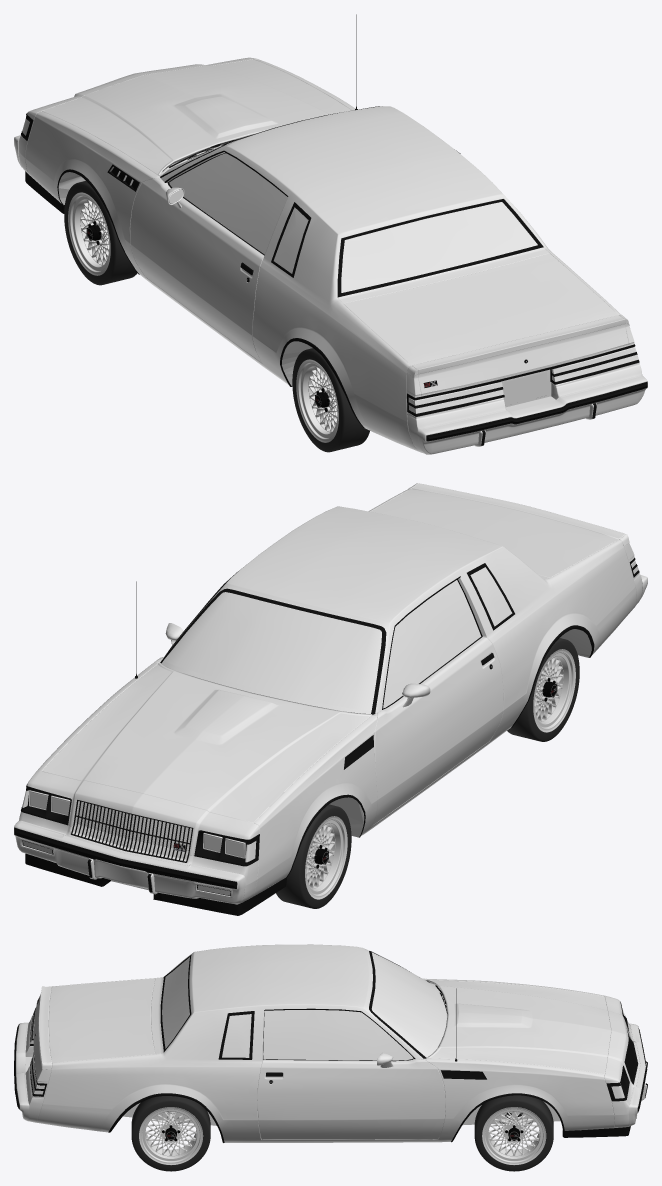
The model's file is MCLA_VP_BUK_GRANDNATIONAL_87.glb.
3 views of the same model, one above another, from view 1: azimuth 30°, elevation 25°; view 2: azimuth 150°, elevation 25°; view 3: azimuth 270°, elevation 25° (orthographic). The views are drawn at different scales.
Parts seen in each view (by area): view 1: vp_buk_grandnational_87/resources/vehicle/vp_buk_grandnation (×9), shared/resources/rims/whl_stk_buk_grandnational_87@axl_0/mod, shared/resources/rims/whl_stk_buk_grandnational_87@axl_2/mod, shared/resources/tires/models/tir_car@axl_2/model0, shared/resources/tires/models/tir_car@axl_0/model0; view 2: vp_buk_grandnational_87/resources/vehicle/vp_buk_grandnation (×8), shared/resources/rims/whl_stk_buk_grandnational_87@axl_2/mod, shared/resources/rims/whl_stk_buk_grandnational_87@axl_0/mod, shared/resources/tires/models/tir_car@axl_0/model0, shared/resources/tires/models/tir_car@axl_2/model0; view 3: vp_buk_grandnational_87/resources/vehicle/vp_buk_grandnation (×9), shared/resources/rims/whl_stk_buk_grandnational_87@axl_1/mod, shared/resources/rims/whl_stk_buk_grandnational_87@axl_3/mod, shared/resources/tires/models/tir_car@axl_1/model0, shared/resources/tires/models/tir_car@axl_3/model0.
Part boxes in pixels (x1,y1,x2,y2): vp_buk_grandnational_87/resources/vehicle/vp_buk_grandnation (×9): [14, 57, 647, 454]; shared/resources/rims/whl_stk_buk_grandnational_87@axl_0/mod: [68, 192, 110, 275]; shared/resources/rims/whl_stk_buk_grandnational_87@axl_2/mod: [296, 359, 338, 442]; shared/resources/tires/models/tir_car@axl_2/model0: [292, 348, 369, 452]; shared/resources/tires/models/tir_car@axl_0/model0: [64, 181, 137, 285]; vp_buk_grandnational_87/resources/vehicle/vp_buk_grandnation (×8): [14, 483, 636, 915]; shared/resources/rims/whl_stk_buk_grandnational_87@axl_2/mod: [533, 649, 575, 732]; shared/resources/rims/whl_stk_buk_grandnational_87@axl_0/mod: [305, 816, 347, 899]; shared/resources/tires/models/tir_car@axl_0/model0: [276, 804, 351, 908]; shared/resources/tires/models/tir_car@axl_2/model0: [507, 638, 579, 741]; vp_buk_grandnational_87/resources/vehicle/vp_buk_grandnation (×9): [14, 944, 647, 1142]; shared/resources/rims/whl_stk_buk_grandnational_87@axl_1/mod: [482, 1107, 546, 1165]; shared/resources/rims/whl_stk_buk_grandnational_87@axl_3/mod: [139, 1107, 203, 1165]; shared/resources/tires/models/tir_car@axl_1/model0: [474, 1095, 553, 1171]; shared/resources/tires/models/tir_car@axl_3/model0: [131, 1096, 210, 1171].
Size of the model in its own units: 1.85 by 1.62 by 5.15.
136 materials, 71 textured.
